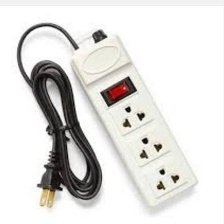three_eye_plug: (66, 27, 200, 210)
